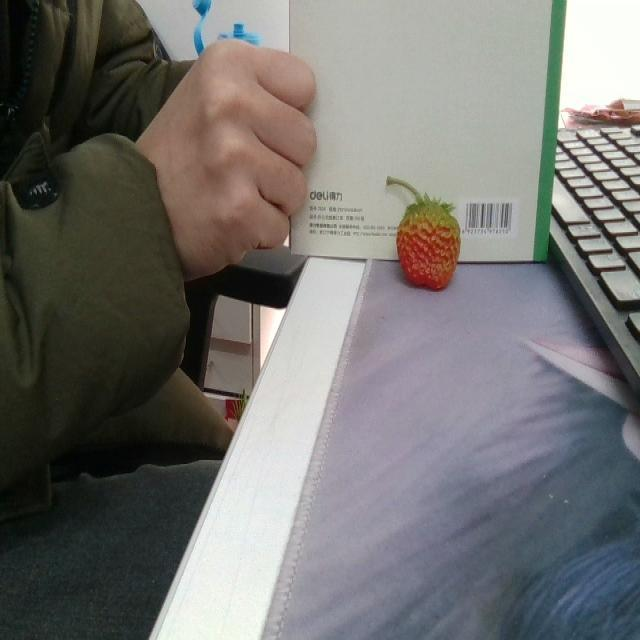unripe: (394, 198, 462, 294)
